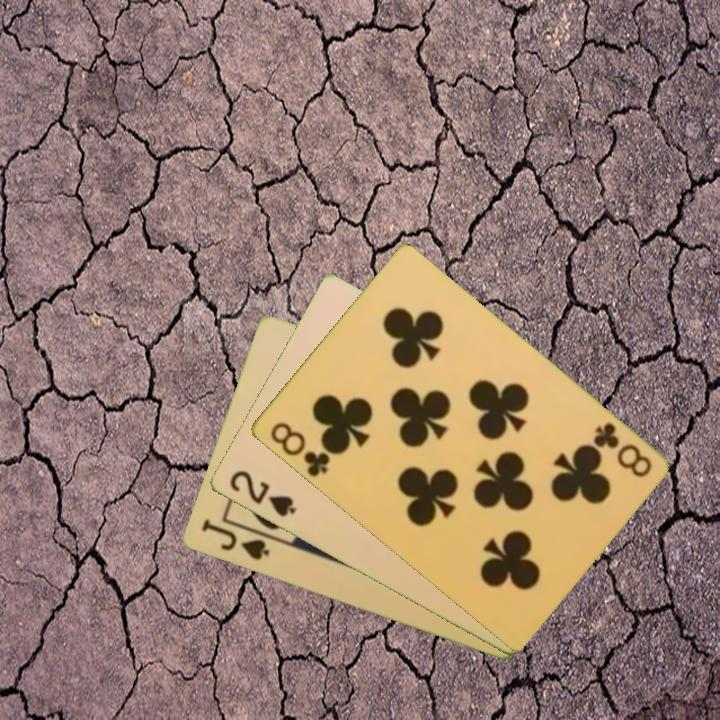2s: (225, 466, 299, 520)
8c: (589, 418, 655, 481), (266, 418, 333, 480)
Js: (197, 516, 272, 564)
